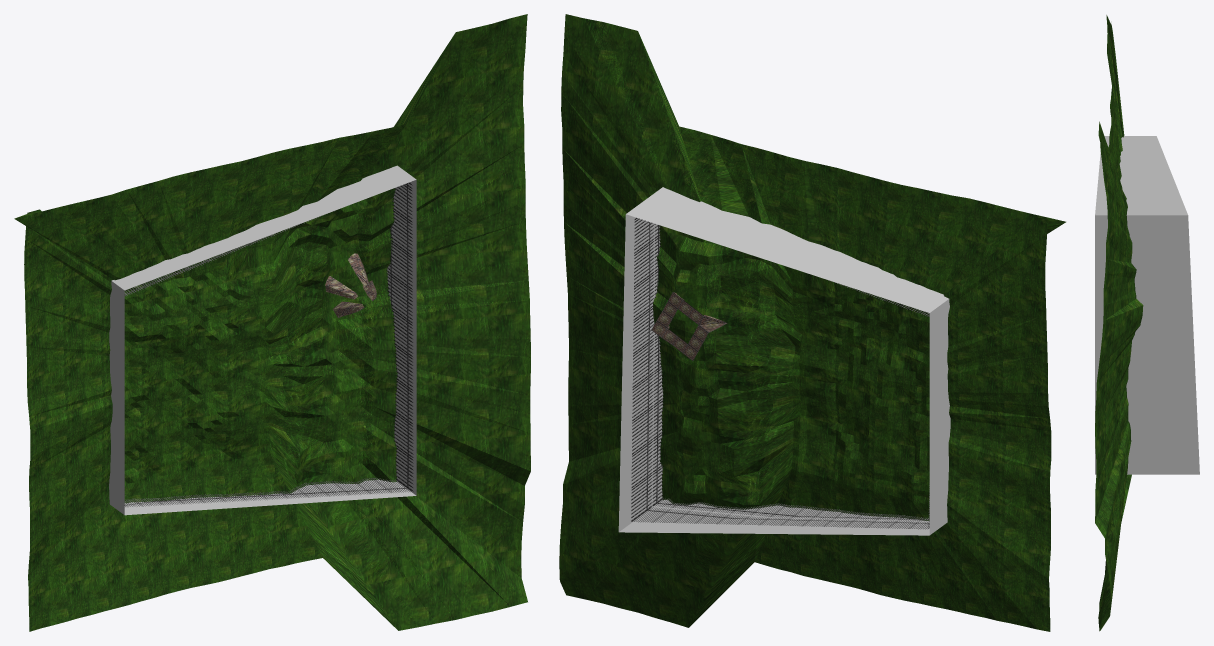
The model's file is ZombieForest_wtf.obj.
3 views of the same model, side by side, from view 1: azimuth 30°, elevation 25°; view 2: azimuth 150°, elevation 25°; view 3: azimuth 270°, elevation 25° (orthographic). The views are drawn at different scales.
Parts seen in each view (by area): view 1: group5, group4, group3, group2; view 2: group5, group4, group3, group2; view 3: group4, group5.
Part boxes in pixels (box(x1,y1,x2,y2)): group5: box(14, 14, 530, 631); group4: box(109, 165, 416, 515); group3: box(124, 181, 413, 507); group2: box(325, 253, 376, 317); group5: box(559, 14, 1065, 631); group4: box(618, 187, 950, 535); group3: box(631, 217, 929, 529); group2: box(651, 292, 727, 360); group4: box(1095, 136, 1199, 474); group5: box(1095, 15, 1143, 631).
Size of the model in its own units: 599 by 660 by 130.
